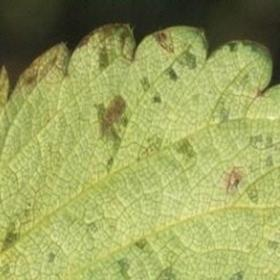Angular Leafspot: (0, 23, 279, 279)
